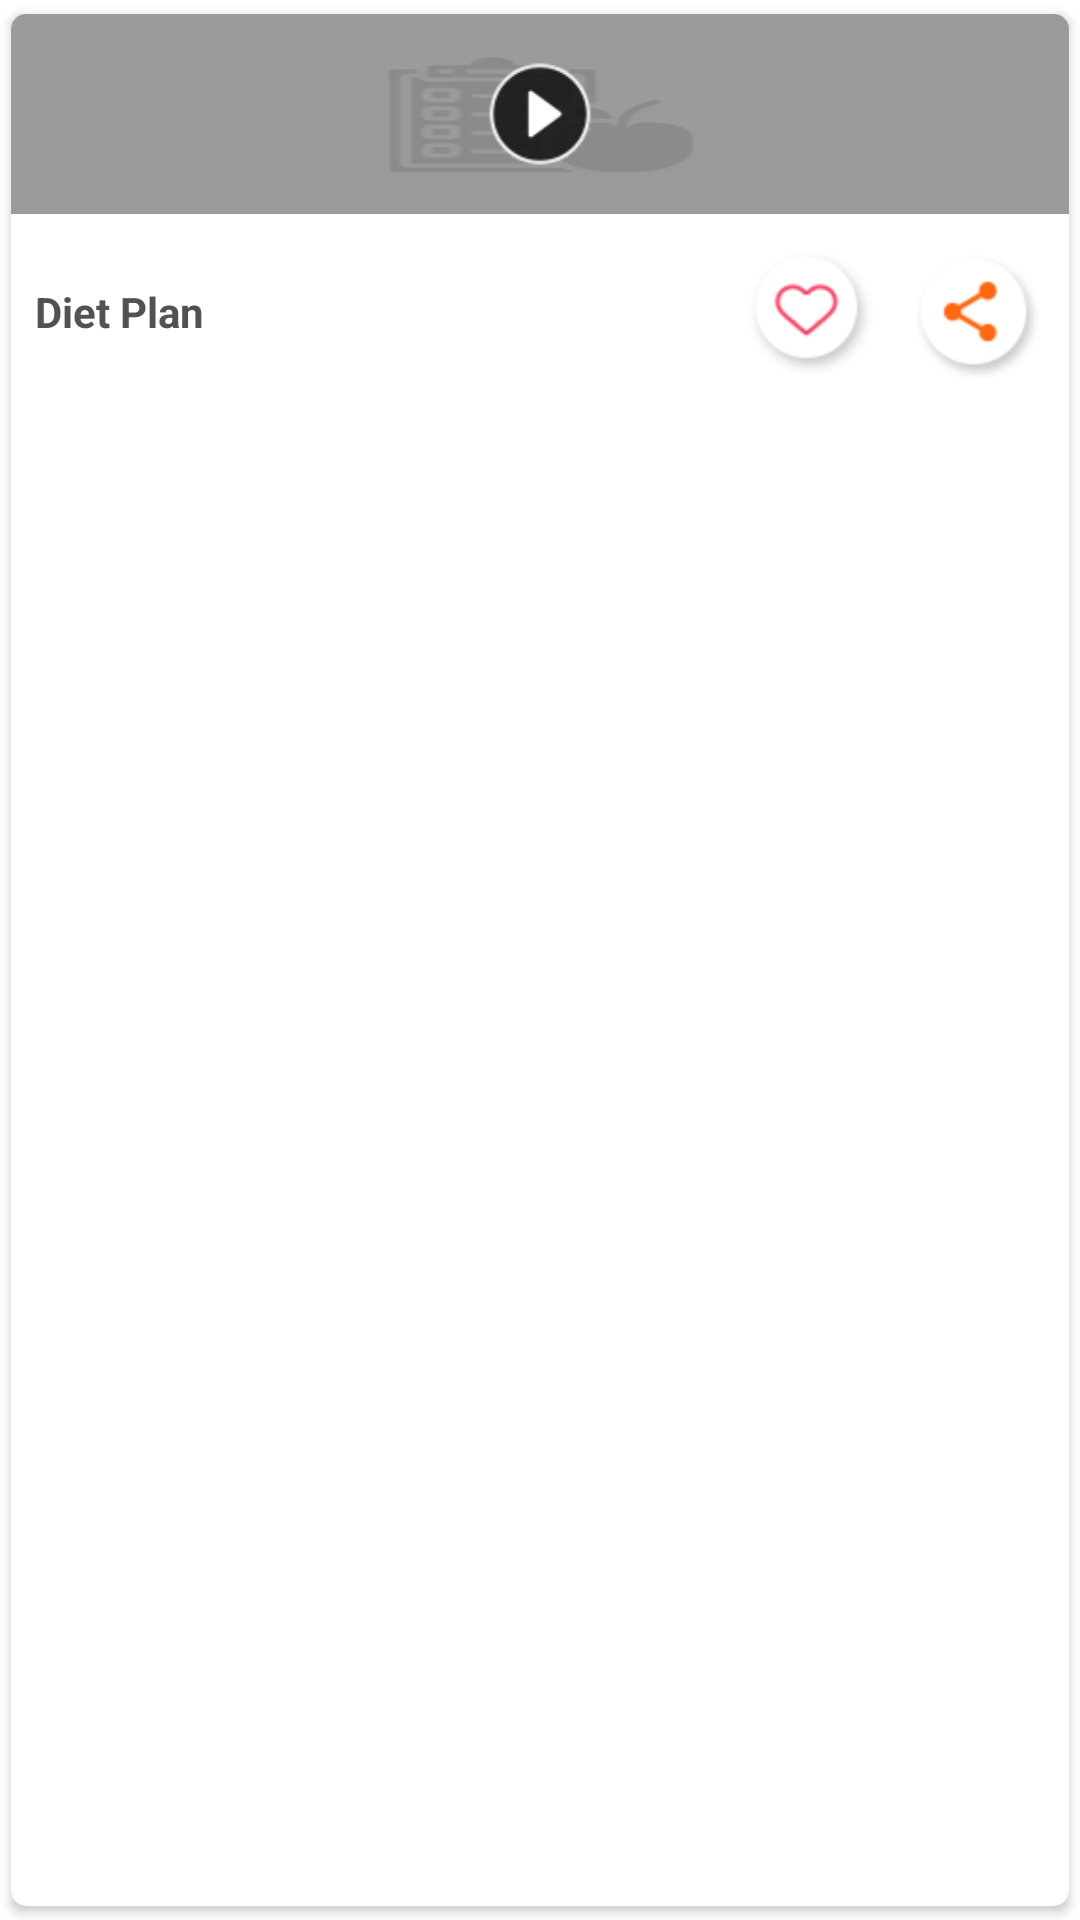

Icons on this 1080x1920 Android screen, each with its box as rect(x1, y1, x2, y2):
fav: rect(769, 283, 862, 365)
share video: rect(934, 281, 1031, 371)
